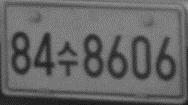0: (130, 34, 153, 80)
4: (31, 31, 55, 76)
6: (106, 34, 128, 80), (155, 35, 177, 81)
8: (9, 30, 32, 75), (82, 33, 104, 78)
수: (57, 40, 78, 76)
